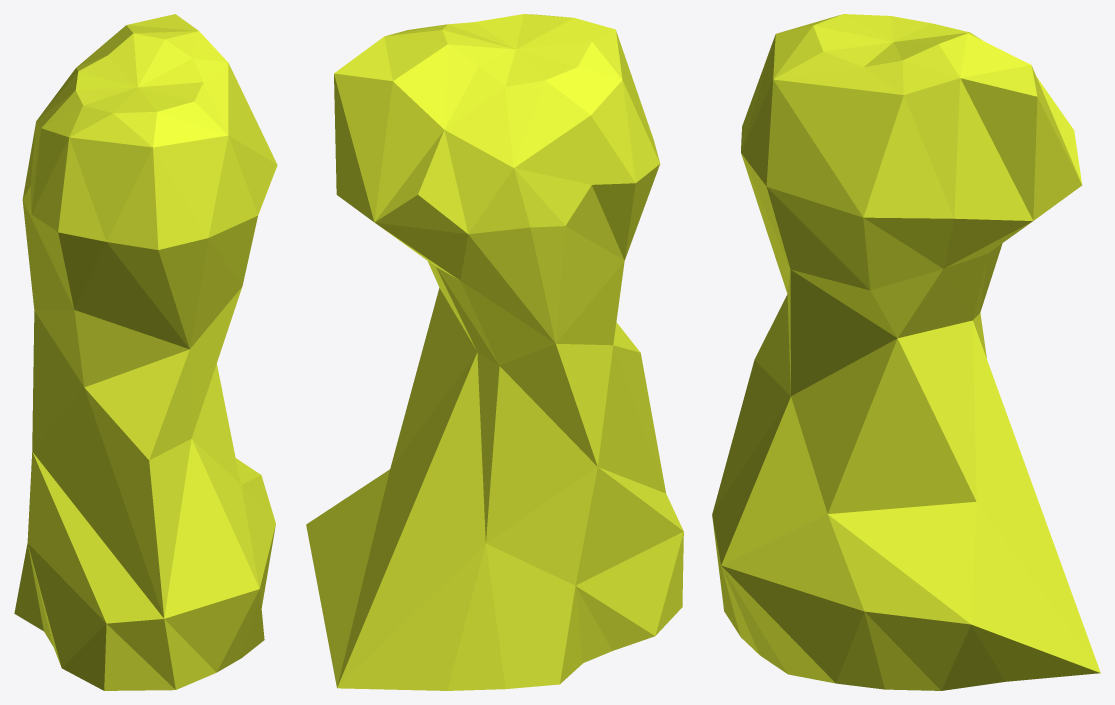
Rendered from CoralRock_0.fbx.
3 renders of one model, left to right at view 1: azimuth 30°, elevation 25°; view 2: azimuth 150°, elevation 25°; view 3: azimuth 270°, elevation 25°, orthographic. The views are drawn at different scales.
Parts seen in each view (by area): view 1: CoralRock_0; view 2: CoralRock_0; view 3: CoralRock_0.
Part boxes in pixels (box(x1,y1,x2,y2)): CoralRock_0: box(14, 14, 277, 690); CoralRock_0: box(306, 14, 683, 690); CoralRock_0: box(712, 14, 1100, 690).
Size of the model in its own units: 2766 by 5553 by 3169.
